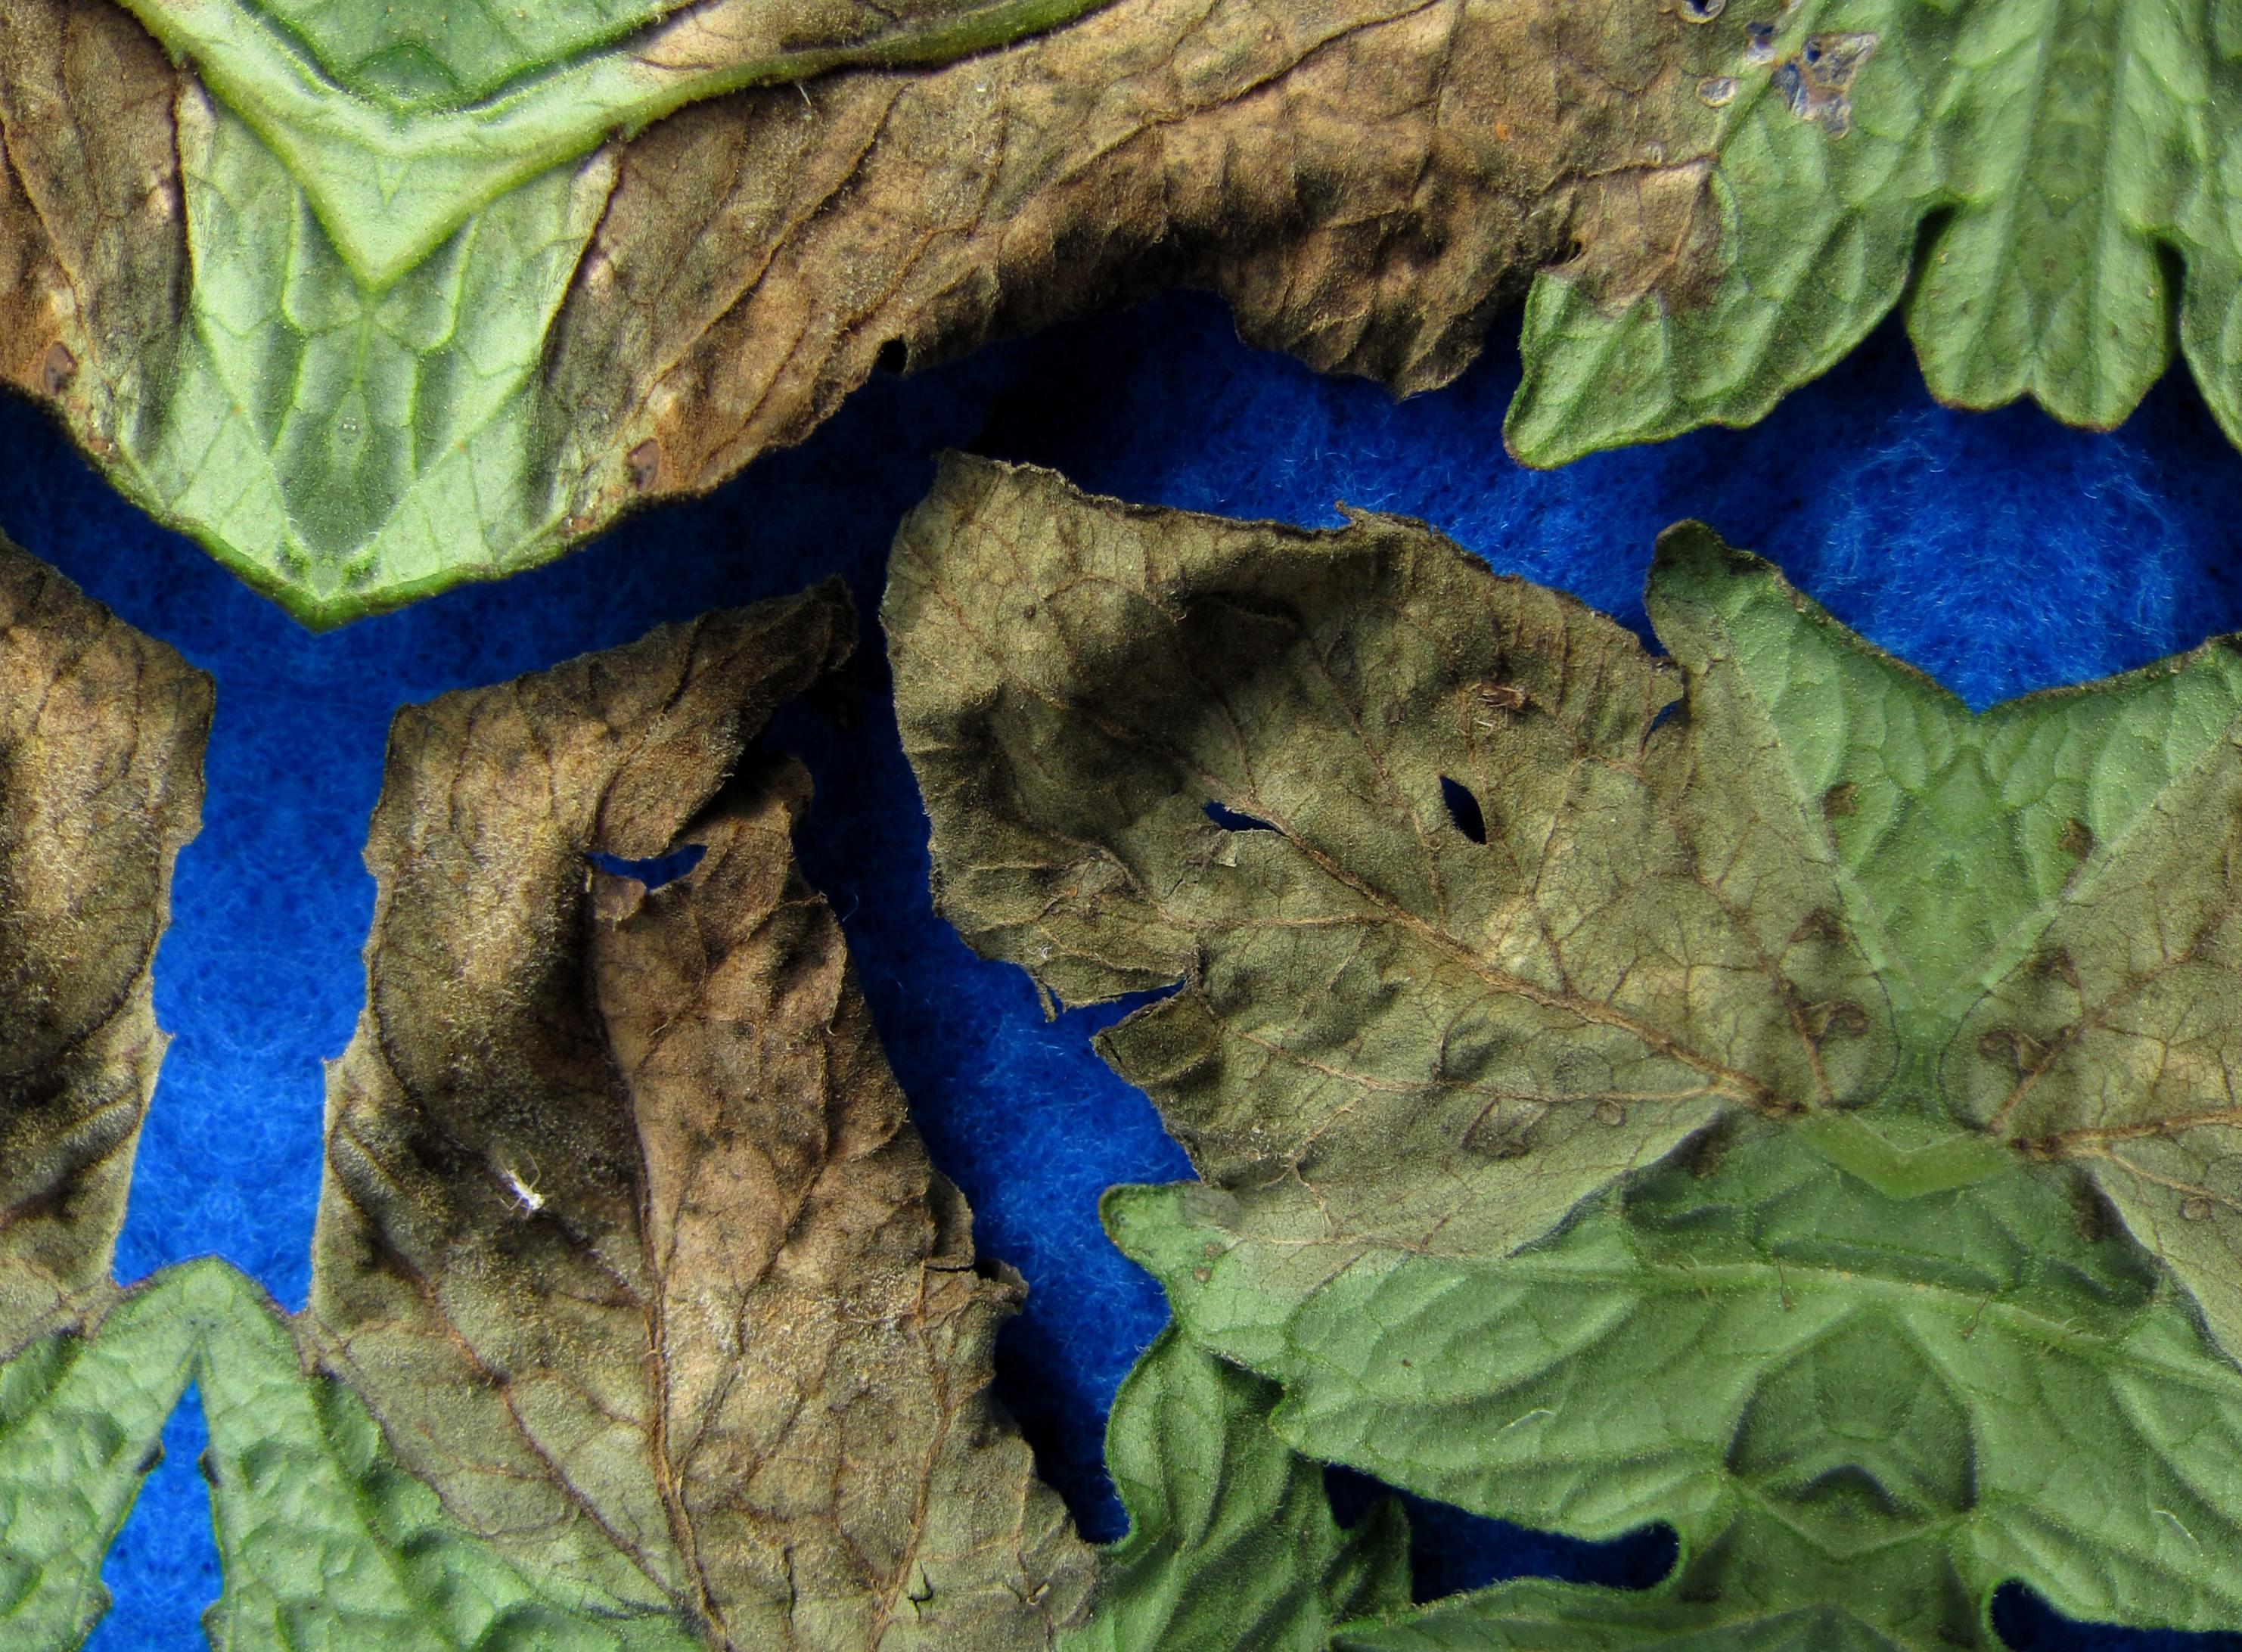Tomato leaf late blight: (701, 332, 2002, 1652), (131, 569, 1577, 1652)
